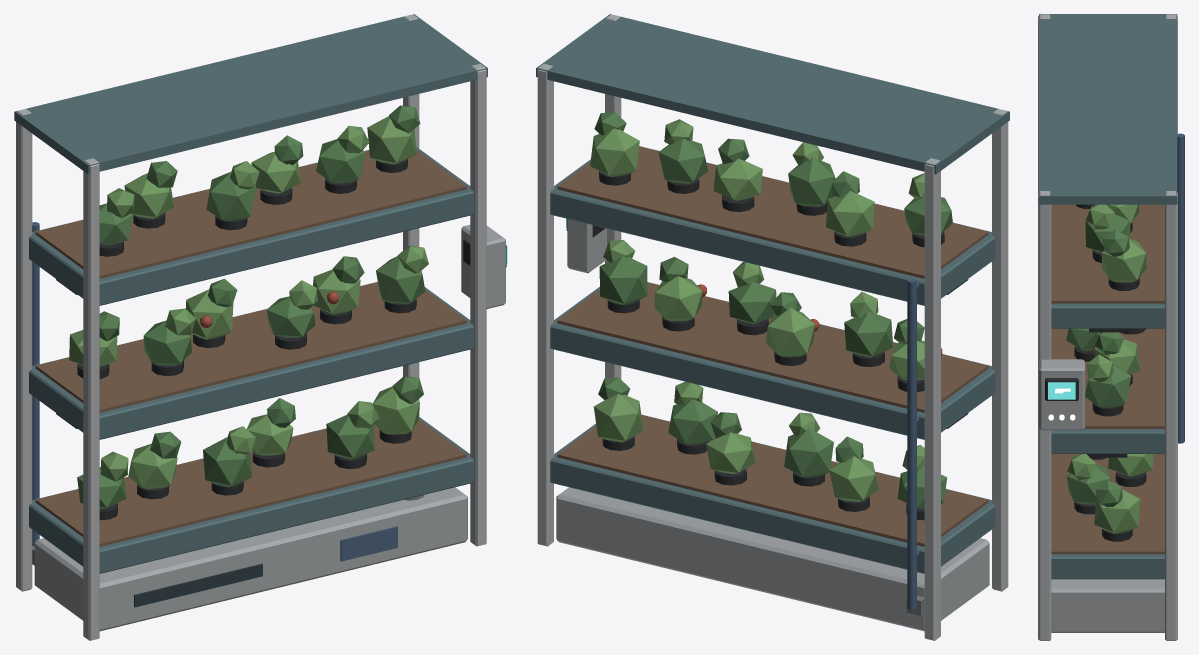
File: astro_hydroponics_rack.fbx
3 renders of one model, left to right at view 1: azimuth 30°, elevation 25°; view 2: azimuth 150°, elevation 25°; view 3: azimuth 270°, elevation 25°, orthographic. The views are drawn at different scales.
Visible parts, largest first — view 1: HydroponicsRack_Body; view 2: HydroponicsRack_Body; view 3: HydroponicsRack_Body.
Boxes of the visible parts, x1=… form: HydroponicsRack_Body: x1=14, y1=14, x2=507, y2=640; HydroponicsRack_Body: x1=536, y1=14, x2=1009, y2=640; HydroponicsRack_Body: x1=1038, y1=14, x2=1184, y2=640.
Size of the model in its own units: 299 by 321 by 95.5.
